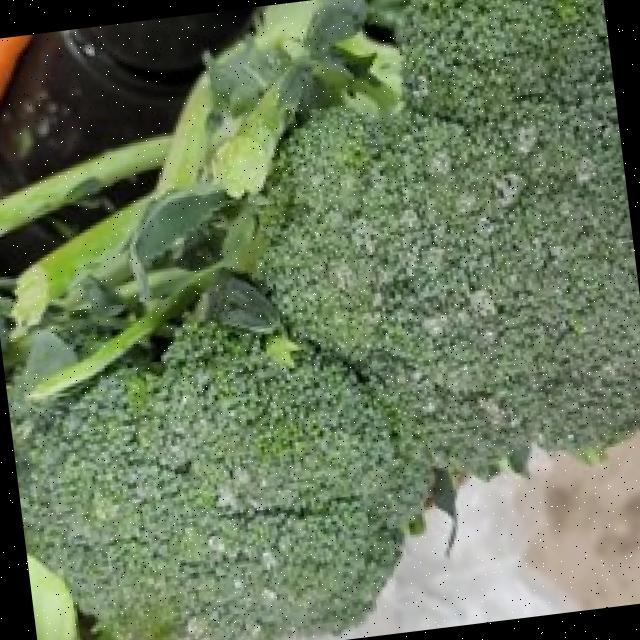Broccoli: (258, 0, 640, 466), (259, 0, 640, 464), (18, 322, 428, 640), (19, 322, 428, 640)
